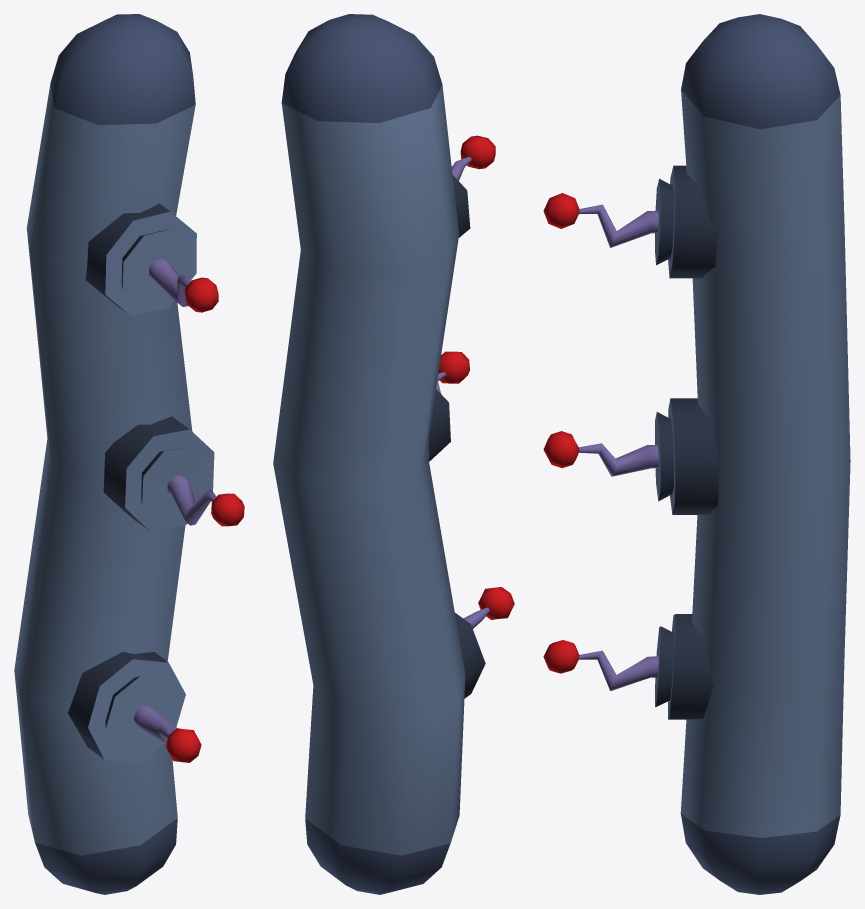
The model's file is laserFence.fbx.
The picture shows the model from 3 angles, left to right: view 1: azimuth 30°, elevation 25°; view 2: azimuth 150°, elevation 25°; view 3: azimuth 270°, elevation 25°; orthographic projection.
Parts seen in each view (by area): view 1: laserFence; view 2: laserFence; view 3: laserFence.
Boxes of the visible parts, <box> form: laserFence: <box>14,14,244,894</box>; laserFence: <box>273,14,514,894</box>; laserFence: <box>543,14,850,894</box>.
Size of the model in its own units: 81.23 by 383 by 122.
